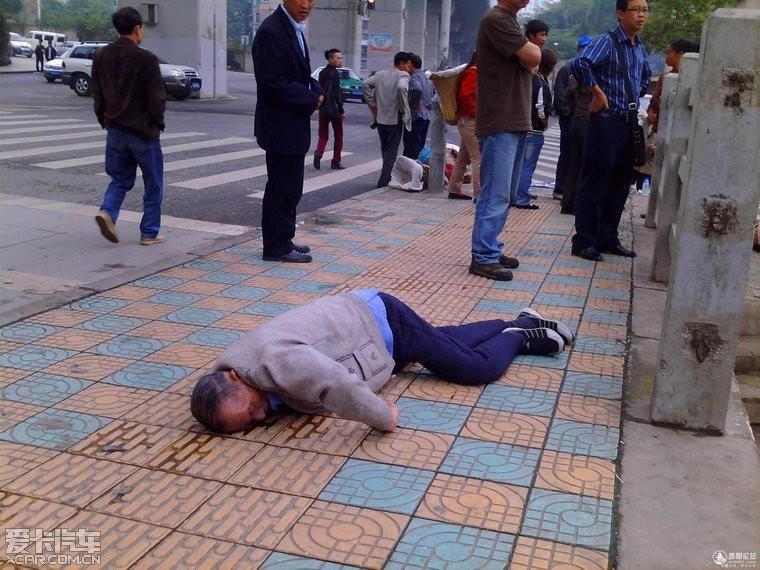down: (181, 260, 605, 453)
up: (558, 1, 658, 274), (456, 1, 545, 289), (89, 1, 181, 262), (238, 1, 325, 272), (355, 50, 414, 192), (310, 40, 352, 173), (400, 49, 439, 178)
